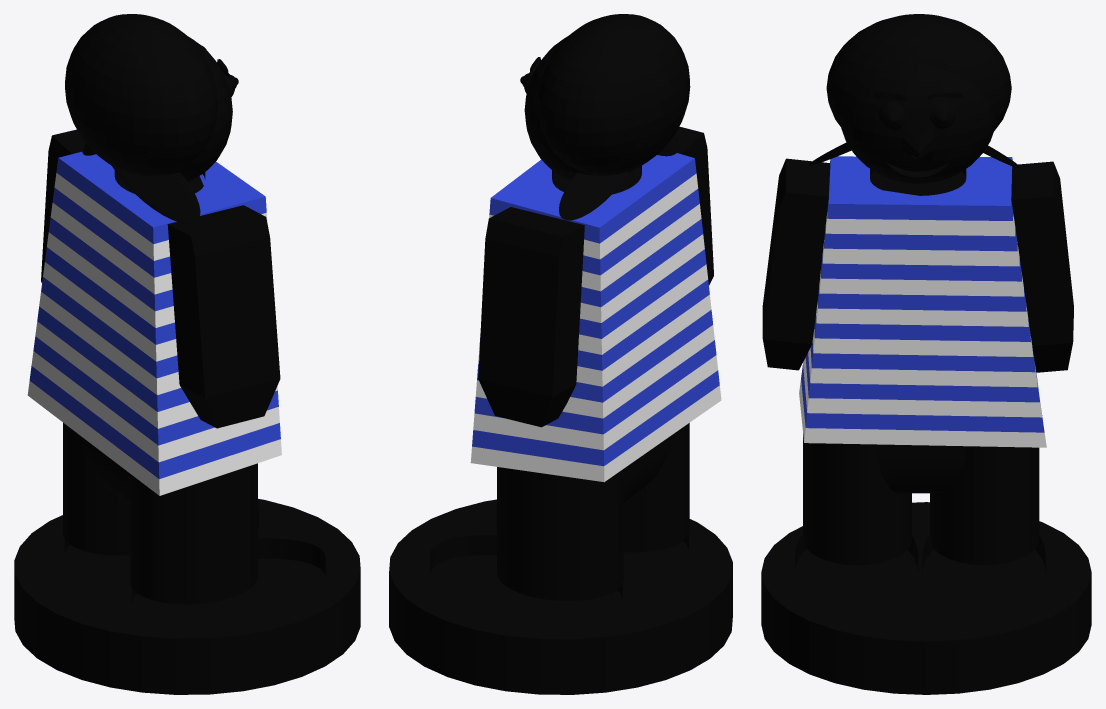
Rendered from Юнга.fbx.
3 renders of one model, left to right at view 1: azimuth 30°, elevation 25°; view 2: azimuth 150°, elevation 25°; view 3: azimuth 270°, elevation 25°, orthographic. The views are drawn at different scales.
Parts seen in each view (by area): view 1: Sphere.006; view 2: Sphere.006; view 3: Sphere.006.
Boxes of the visible parts, <box> form: Sphere.006: <box>14,14,360,694</box>; Sphere.006: <box>389,14,732,694</box>; Sphere.006: <box>761,14,1091,694</box>.
Bounding box in the file's own units: 800 × 1559 × 800.
